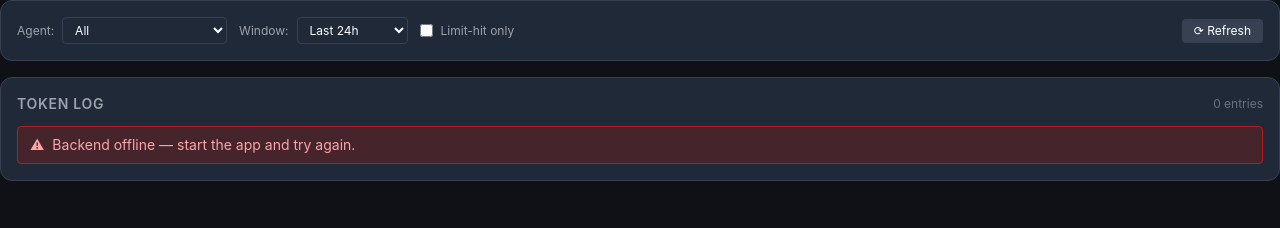
Test: legacy TokensPanel request-failure messaging › clears the thrown-request error after a successful refresh
Expected: the text "Backend offline — start the app and try again." is shown, top-left (52, 135), bottom-right (355, 155)
Click the button "⟳ Refresh": [1222, 30] box top-left (1182, 18), bottom-right (1263, 42)
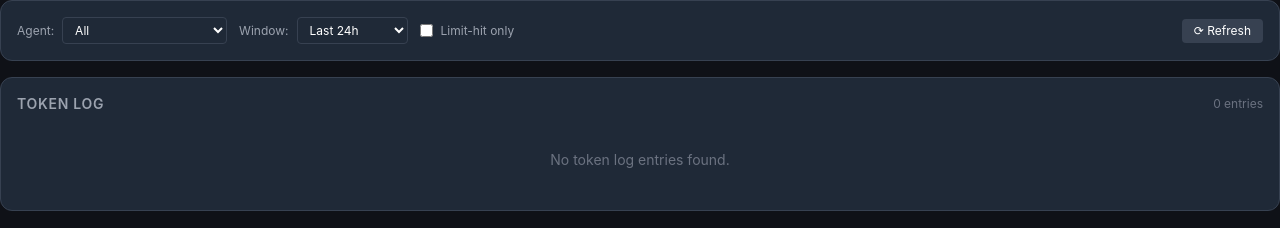
Expected: the text "Backend offline — start the app and try again." is gone
